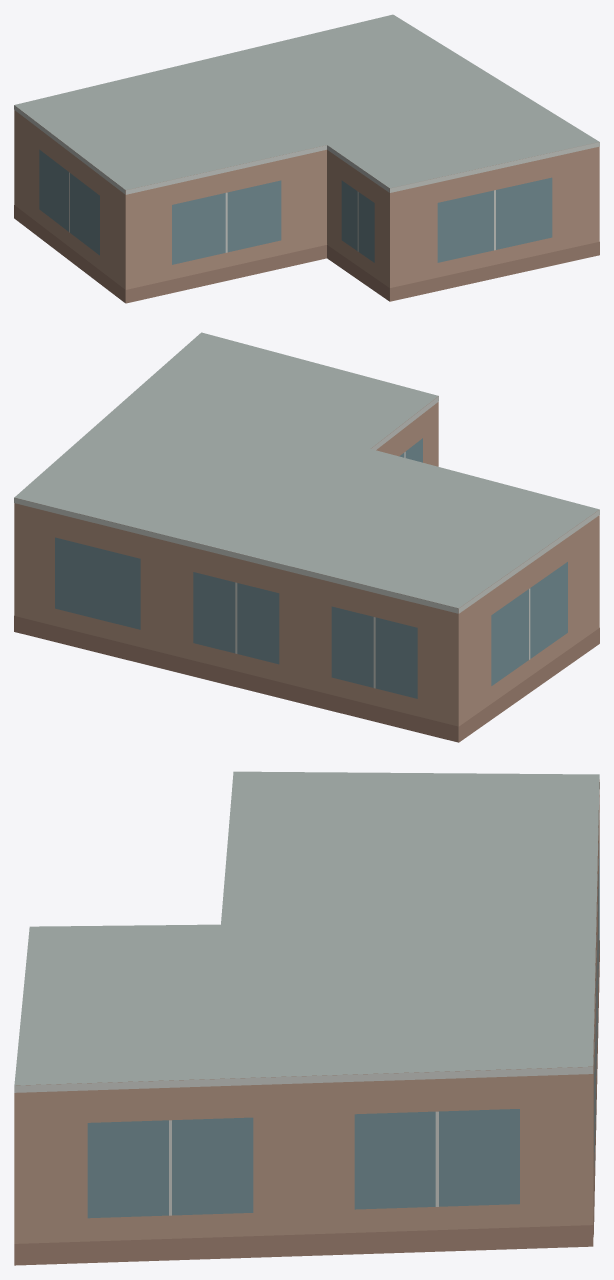
The model's file is survey-upis-32974228.glb.
The picture shows the model from 3 angles, top to bottom: view 1: azimuth 30°, elevation 25°; view 2: azimuth 150°, elevation 25°; view 3: azimuth 270°, elevation 25°; orthographic projection. The views are drawn at different scales.
Visible parts, largest first — view 1: survey-upis-32974228.tmp; view 2: survey-upis-32974228.tmp; view 3: survey-upis-32974228.tmp.
Part boxes in pixels (x1,y1,x2,y2): survey-upis-32974228.tmp: (14, 14, 599, 303); survey-upis-32974228.tmp: (14, 332, 599, 742); survey-upis-32974228.tmp: (14, 771, 599, 1265).
Bounding box in the file's own units: 11.43 × 3.05 × 9.01.
